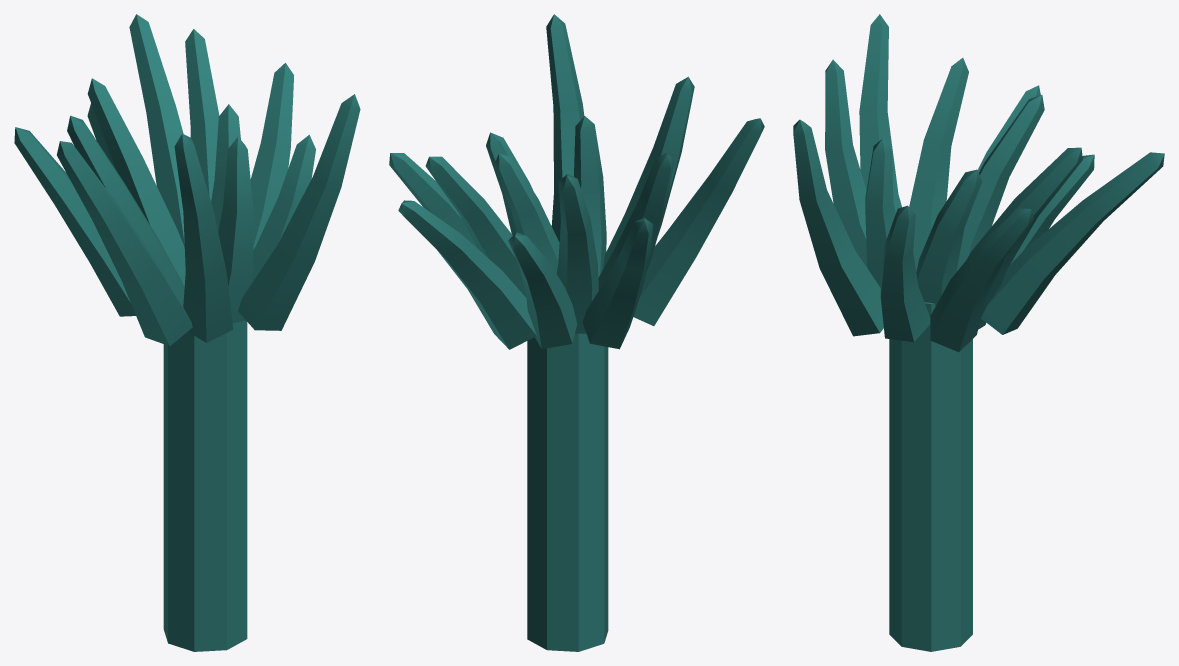
The model's file is tail_tuft.glb.
The picture shows the model from 3 angles, left to right: view 1: azimuth 30°, elevation 25°; view 2: azimuth 150°, elevation 25°; view 3: azimuth 270°, elevation 25°; orthographic projection. The views are drawn at different scales.
Parts seen in each view (by area): view 1: tail_tuft_seg1, tail_tuft_seg0; view 2: tail_tuft_seg1, tail_tuft_seg0; view 3: tail_tuft_seg1, tail_tuft_seg0.
Boxes of the visible parts, box(x1,y1,x2,y2) form: tail_tuft_seg1: box(14, 14, 360, 346); tail_tuft_seg0: box(163, 280, 247, 651); tail_tuft_seg1: box(389, 14, 764, 349); tail_tuft_seg0: box(527, 333, 608, 651); tail_tuft_seg1: box(793, 14, 1164, 352); tail_tuft_seg0: box(889, 302, 972, 651).
Bounding box in the file's own units: 0.2884 × 0.5095 × 0.3098.
